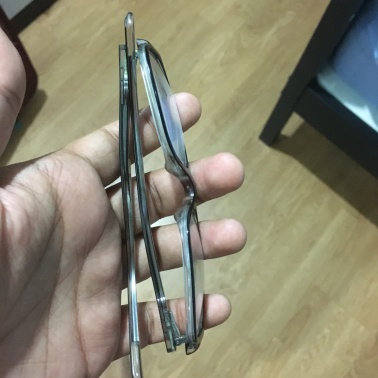glasses: (83, 15, 217, 362)
